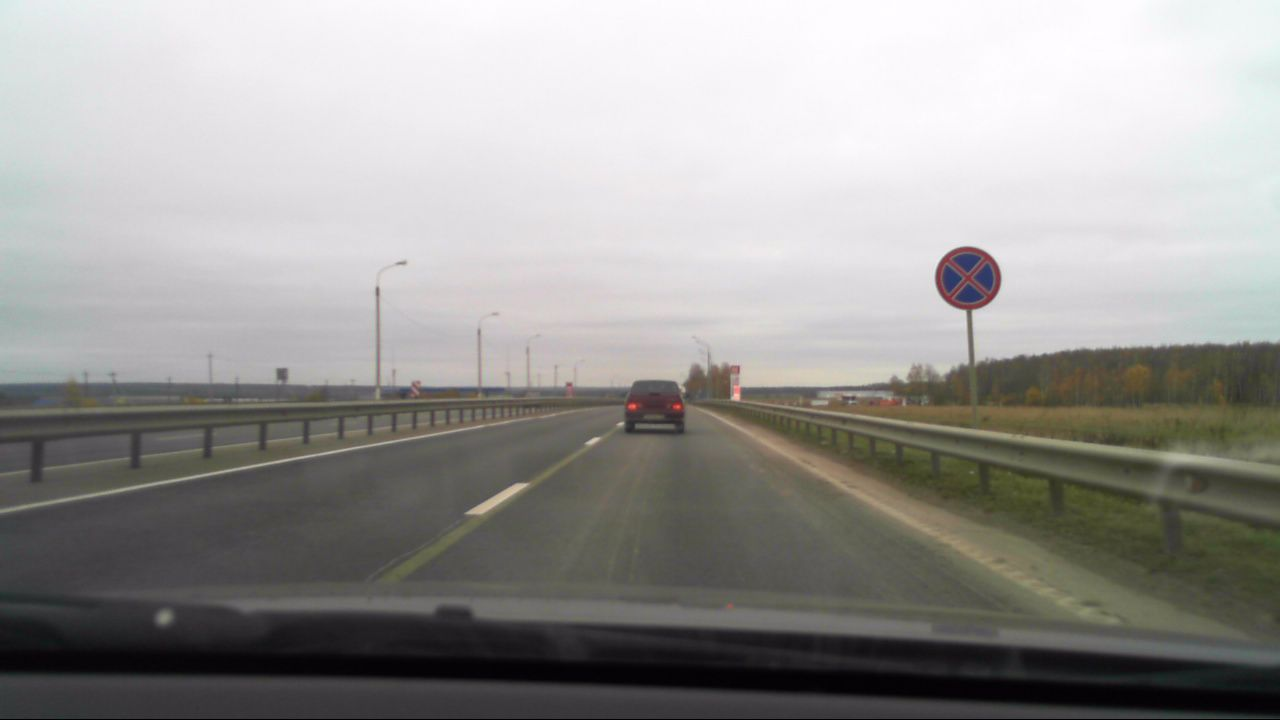No Parking: (937, 245, 1004, 312)
